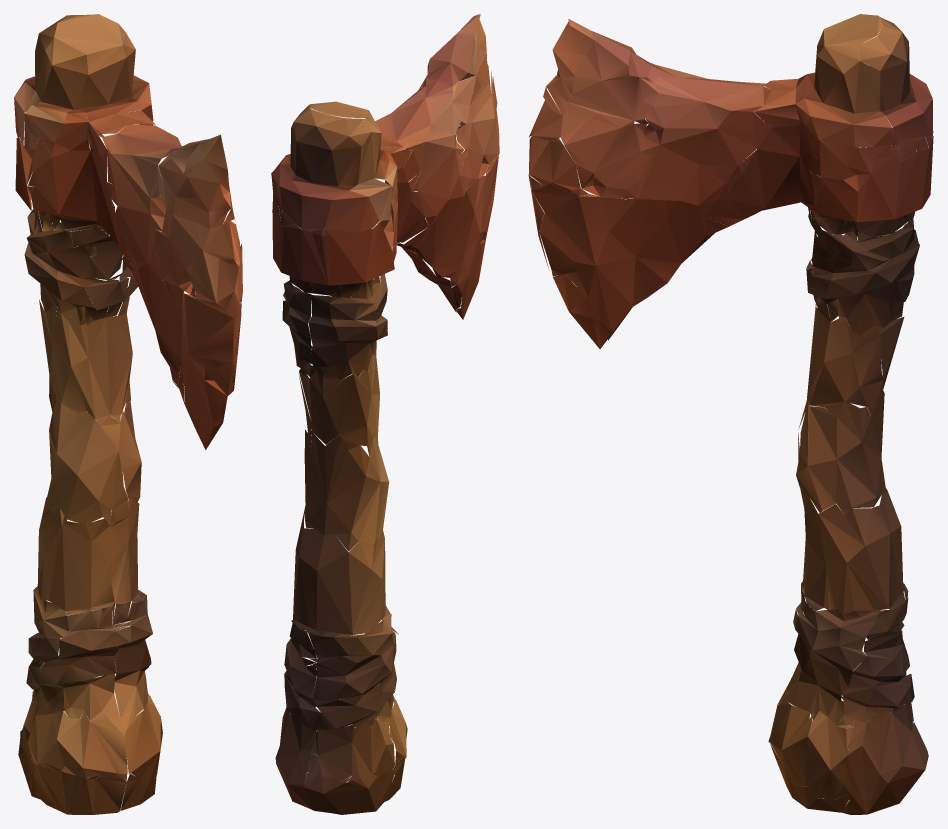
The model's file is copperAxe.glb.
3 views of the same model, side by side, from view 1: azimuth 30°, elevation 25°; view 2: azimuth 150°, elevation 25°; view 3: azimuth 270°, elevation 25° (orthographic). The views are drawn at different scales.
Parts seen in each view (by area): view 1: 0_copperAxe; view 2: 0_copperAxe; view 3: 0_copperAxe.
Boxes of the visible parts, left/top/right/bottom form: 0_copperAxe: left=14, top=14, right=242, bottom=814; 0_copperAxe: left=271, top=14, right=499, bottom=814; 0_copperAxe: left=528, top=14, right=933, bottom=814.
Bounding box in the file's own units: 0.1003 × 0.5799 × 0.2773.
